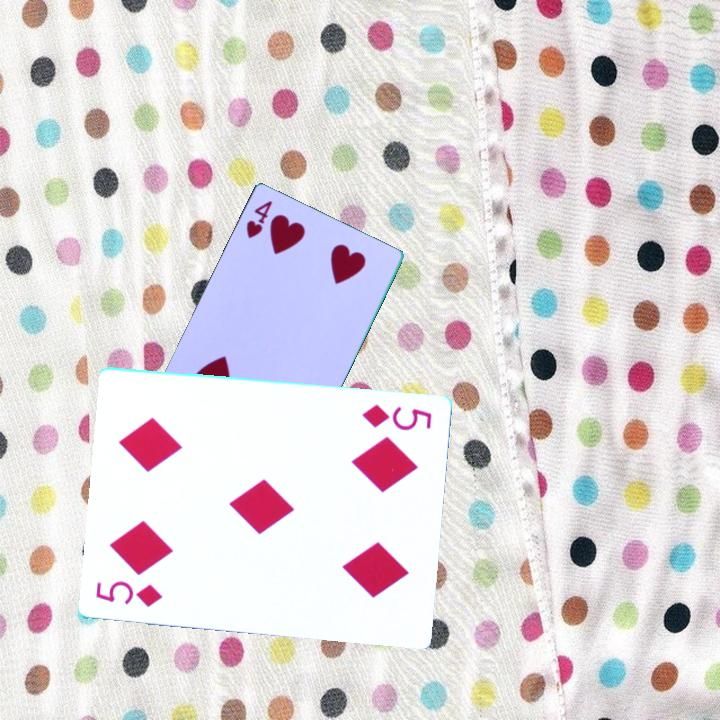4h: (243, 198, 276, 242)
5d: (359, 400, 436, 434), (93, 577, 165, 609)
